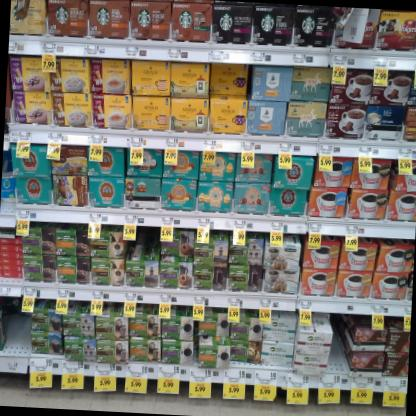empty_space: (323, 310, 353, 381), (4, 295, 32, 358)
